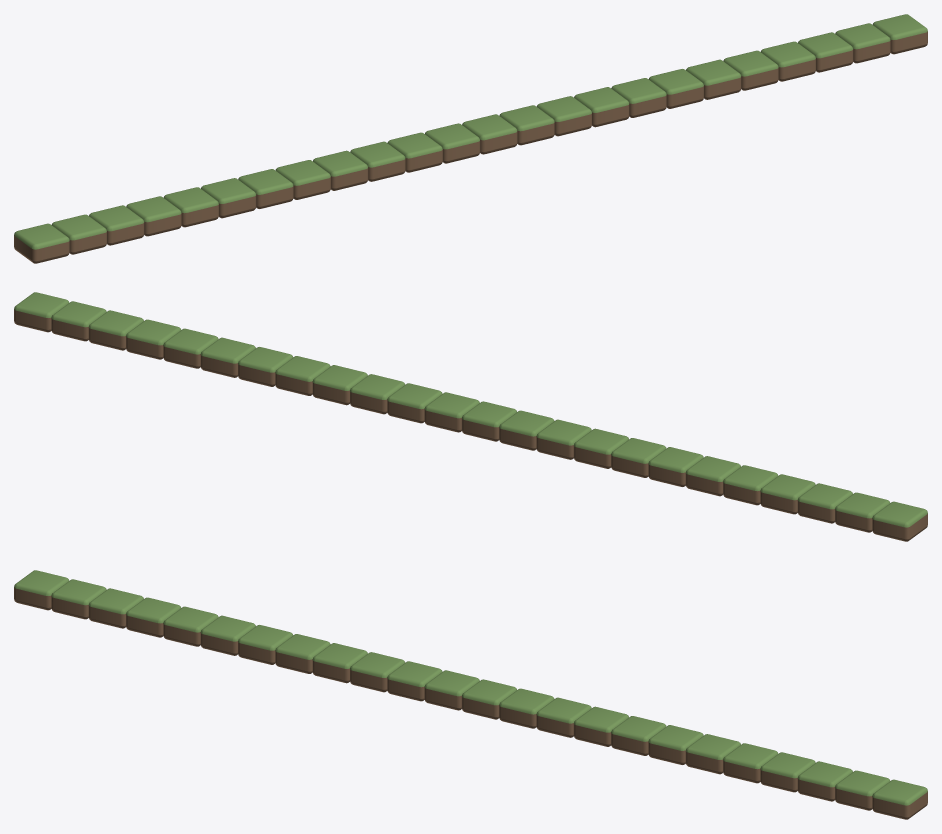
The picture shows the model from 3 angles, top to bottom: view 1: azimuth 30°, elevation 25°; view 2: azimuth 150°, elevation 25°; view 3: azimuth 330°, elevation 25°; orthographic projection.
Visible parts, largest first — view 1: 11, 13, 122, 123, 14, 12, 113, 121, 18, 112, 120, 15 (+12 smaller); view 2: 11, 13, 122, 123, 14, 12, 113, 121, 18, 112, 120, 15 (+12 smaller); view 3: 124, 12, 13, 122, 121, 14, 112, 123, 15, 113, 117, 114 (+12 smaller).
Boxes of the visible parts, box(x1,y1,x2,y2) form: 11: box(14, 223, 69, 263); 13: box(89, 205, 144, 245); 122: box(798, 32, 853, 72); 123: box(835, 23, 890, 63); 14: box(126, 196, 181, 236); 12: box(51, 214, 106, 254); 113: box(462, 114, 517, 154); 121: box(760, 41, 815, 81); 18: box(275, 160, 330, 199); 112: box(425, 123, 480, 163); 120: box(723, 50, 778, 90); 15: box(163, 187, 218, 227); 11: box(872, 501, 927, 541); 13: box(797, 483, 852, 523); 122: box(88, 310, 143, 350); 123: box(51, 301, 106, 341); 14: box(760, 474, 815, 514); 12: box(835, 492, 890, 532); 113: box(424, 392, 479, 432); 121: box(126, 319, 181, 359); 18: box(611, 438, 666, 477); 112: box(461, 401, 516, 441); 120: box(163, 328, 218, 368); 15: box(723, 465, 778, 505); 124: box(872, 779, 927, 819); 12: box(51, 579, 106, 619); 13: box(88, 588, 143, 628); 122: box(797, 761, 852, 801); 121: box(760, 752, 815, 792); 14: box(126, 597, 181, 637); 112: box(424, 670, 479, 710); 123: box(835, 770, 890, 810); 15: box(163, 606, 218, 646); 113: box(461, 679, 516, 719); 117: box(611, 716, 666, 755); 114: box(499, 688, 554, 728).
Size of the model in its own units: 24 by 0.5 by 1.
